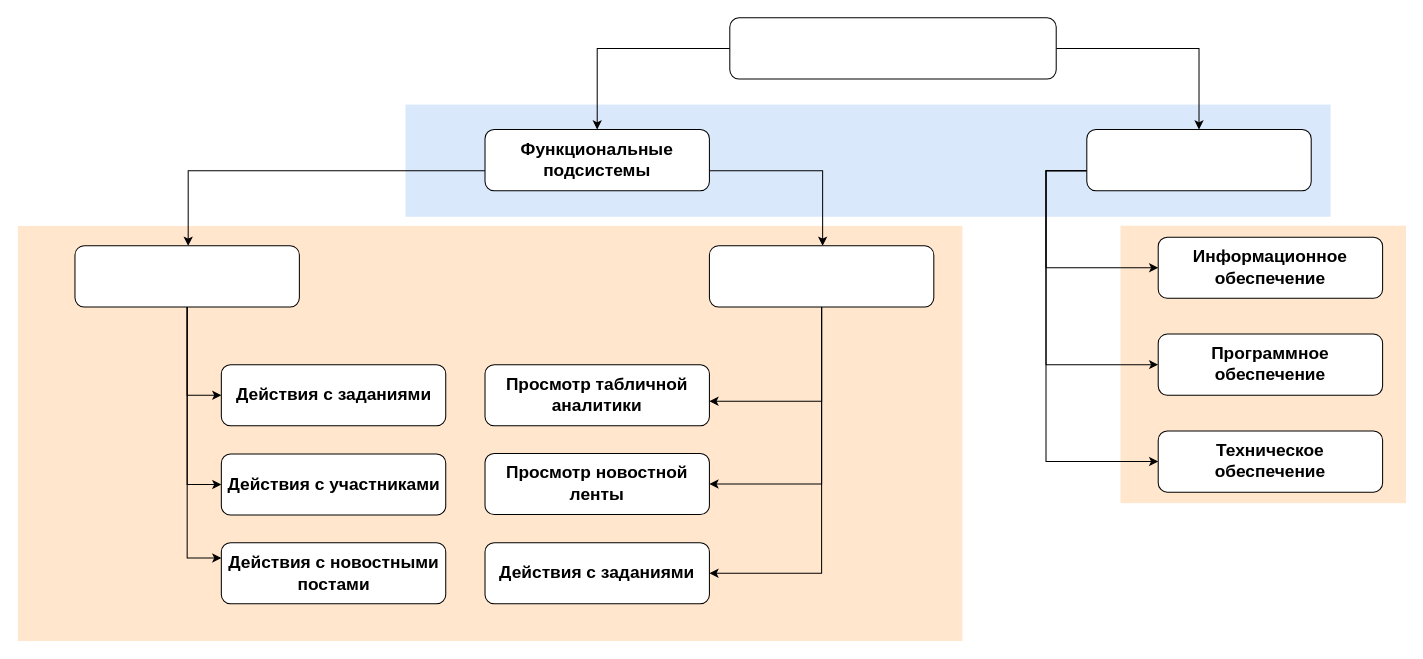
This 1423x659 diagram has some shape labels left out. Each missing label, with the centre of its shape:
Жюрейная система SchoolCTF: (892,48)
Интерфейс администратора: (186,276)
Интерфейс пользователя: (821,276)
Обеспечивающие подсистемы: (1198,160)
